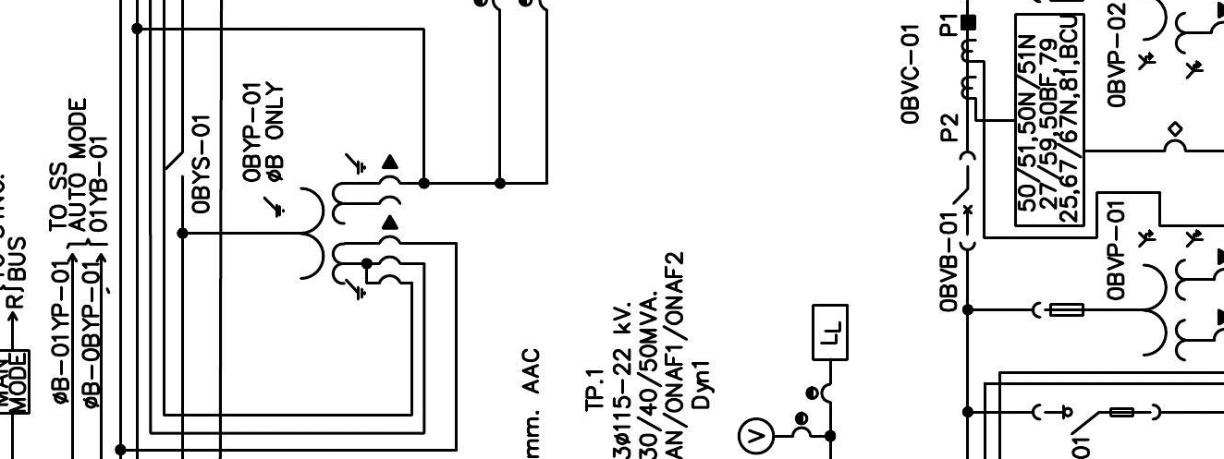115_ds: (166, 151, 185, 179)
115_vt_1p: (262, 152, 402, 302)
22_breaker: (951, 150, 977, 252)
22_ds: (1031, 403, 1162, 436)
LL: (811, 303, 849, 362)
v_m: (737, 416, 776, 456)
